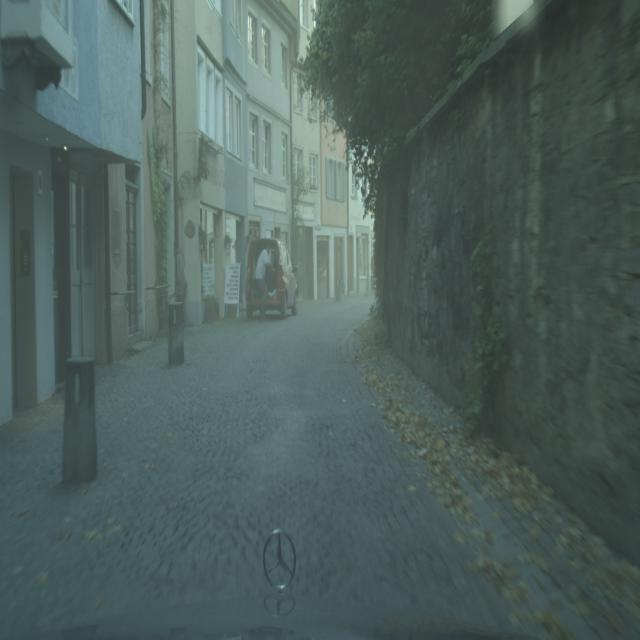bus: (245, 238, 300, 320)
person: (254, 246, 274, 322)
